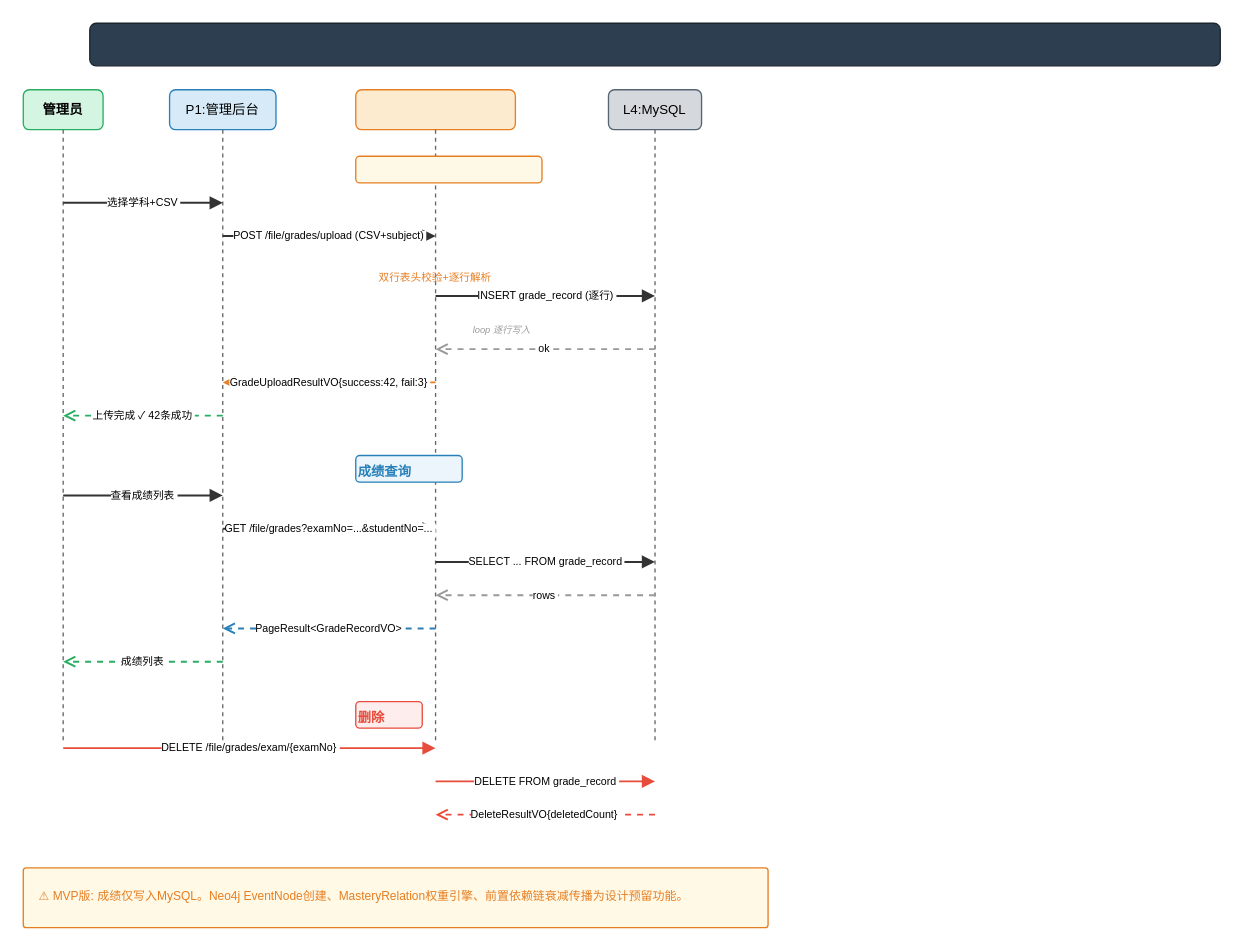
This 1244x951 diagram has some shape labels left out. Here are the shapes that lost their labels. From the top down, the centre of each, then its label:
the point at 654,44: S2 · 成绩CSV导入 (UC-02, Story 1.2) — 同步上传→MySQL
the point at 434,109: 文档处理.数据源管理
the point at 448,169: 成绩 CSV/Excel 上传
